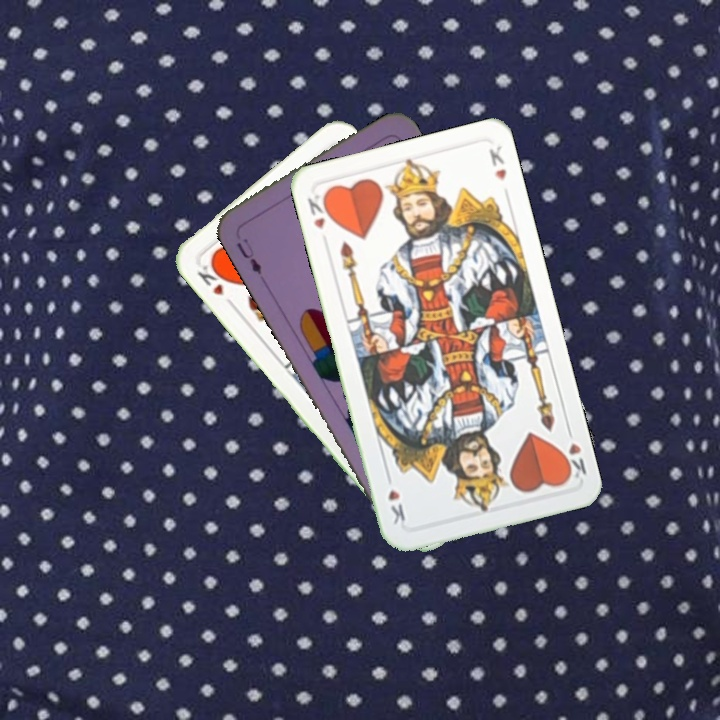EU: (232, 234, 264, 277)
HK: (193, 258, 238, 310), (557, 423, 589, 484), (303, 190, 334, 232)
